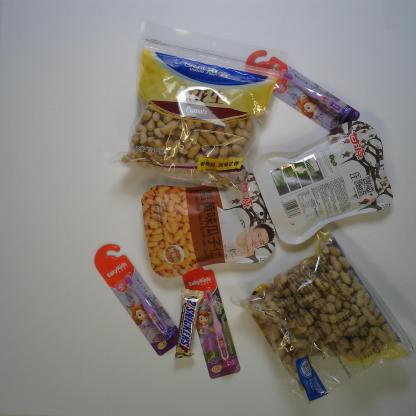Chocolate: (173, 288, 204, 360)
Dried Food: (229, 221, 416, 406), (107, 20, 289, 201)
Dried Fruit: (252, 121, 394, 246), (141, 171, 276, 279)
Personal Hygiene: (94, 243, 182, 356), (245, 50, 360, 136), (182, 261, 241, 380)
